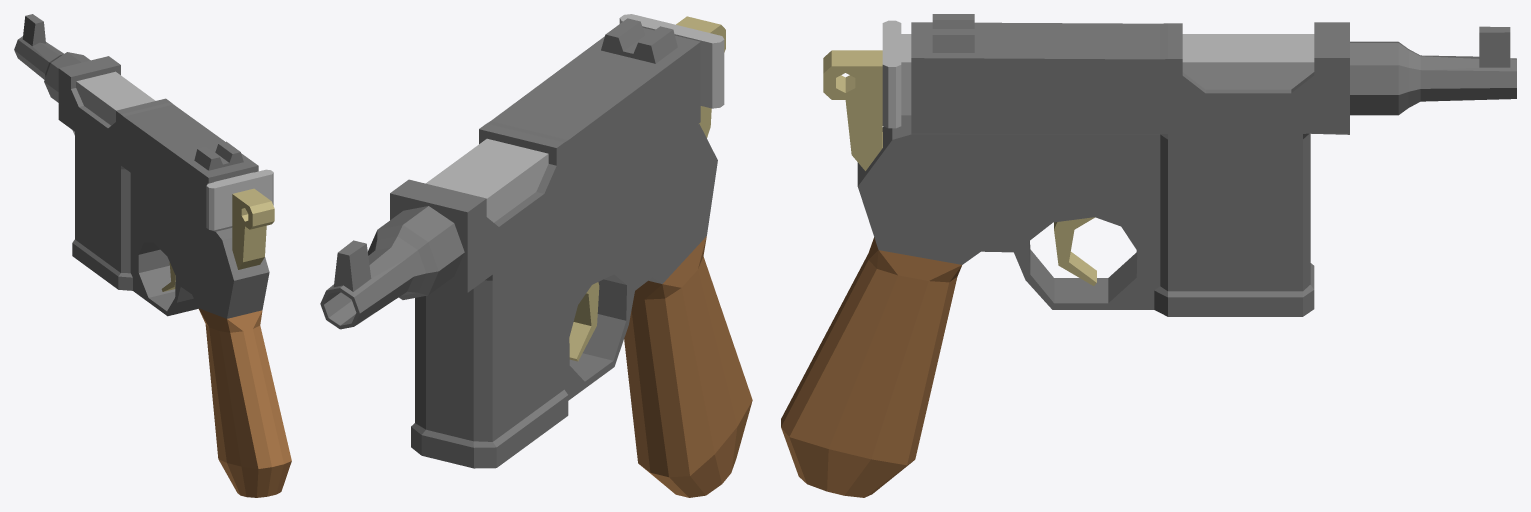
The model's file is MSR-C96-Short.fbx.
3 renders of one model, left to right at view 1: azimuth 30°, elevation 25°; view 2: azimuth 150°, elevation 25°; view 3: azimuth 270°, elevation 25°, orthographic. The views are drawn at different scales.
Visible parts, largest first — view 1: Mauser; view 2: Mauser; view 3: Mauser.
Boxes of the visible parts, x1=… form: Mauser: x1=14, y1=14, x2=291, y2=497; Mauser: x1=320, y1=14, x2=752, y2=497; Mauser: x1=781, y1=14, x2=1516, y2=497.
Size of the model in its own units: 52.75 by 249 by 355.
